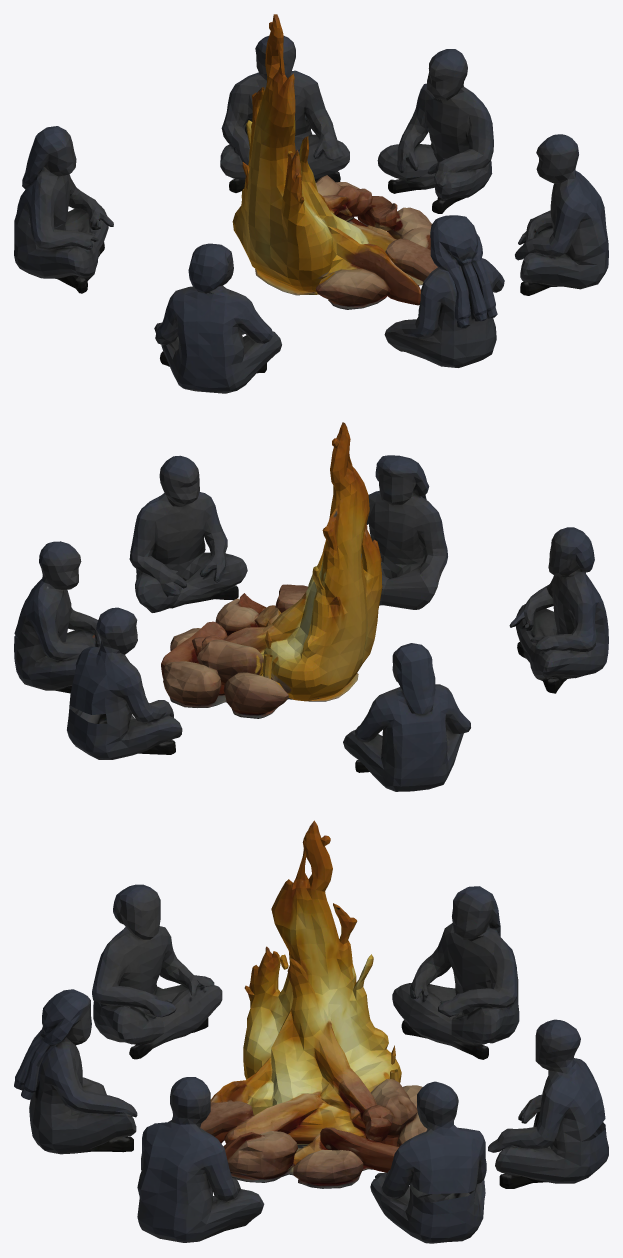
File: Fogata.glb
The picture shows the model from 3 angles, top to bottom: view 1: azimuth 30°, elevation 25°; view 2: azimuth 150°, elevation 25°; view 3: azimuth 270°, elevation 25°; orthographic projection. The views are drawn at different scales.
Parts seen in each view (by area): view 1: tripo_node_2484a654-e877-4936-af36-8a8bd5dec047; view 2: tripo_node_2484a654-e877-4936-af36-8a8bd5dec047; view 3: tripo_node_2484a654-e877-4936-af36-8a8bd5dec047.
Part boxes in pixels (x1,y1,x2,y2): tripo_node_2484a654-e877-4936-af36-8a8bd5dec047: (14, 14, 608, 393); tripo_node_2484a654-e877-4936-af36-8a8bd5dec047: (14, 422, 608, 791); tripo_node_2484a654-e877-4936-af36-8a8bd5dec047: (14, 820, 608, 1243).
Bounding box in the file's own units: 2.6 × 1.5 × 2.78.
1 material, 1 textured.
